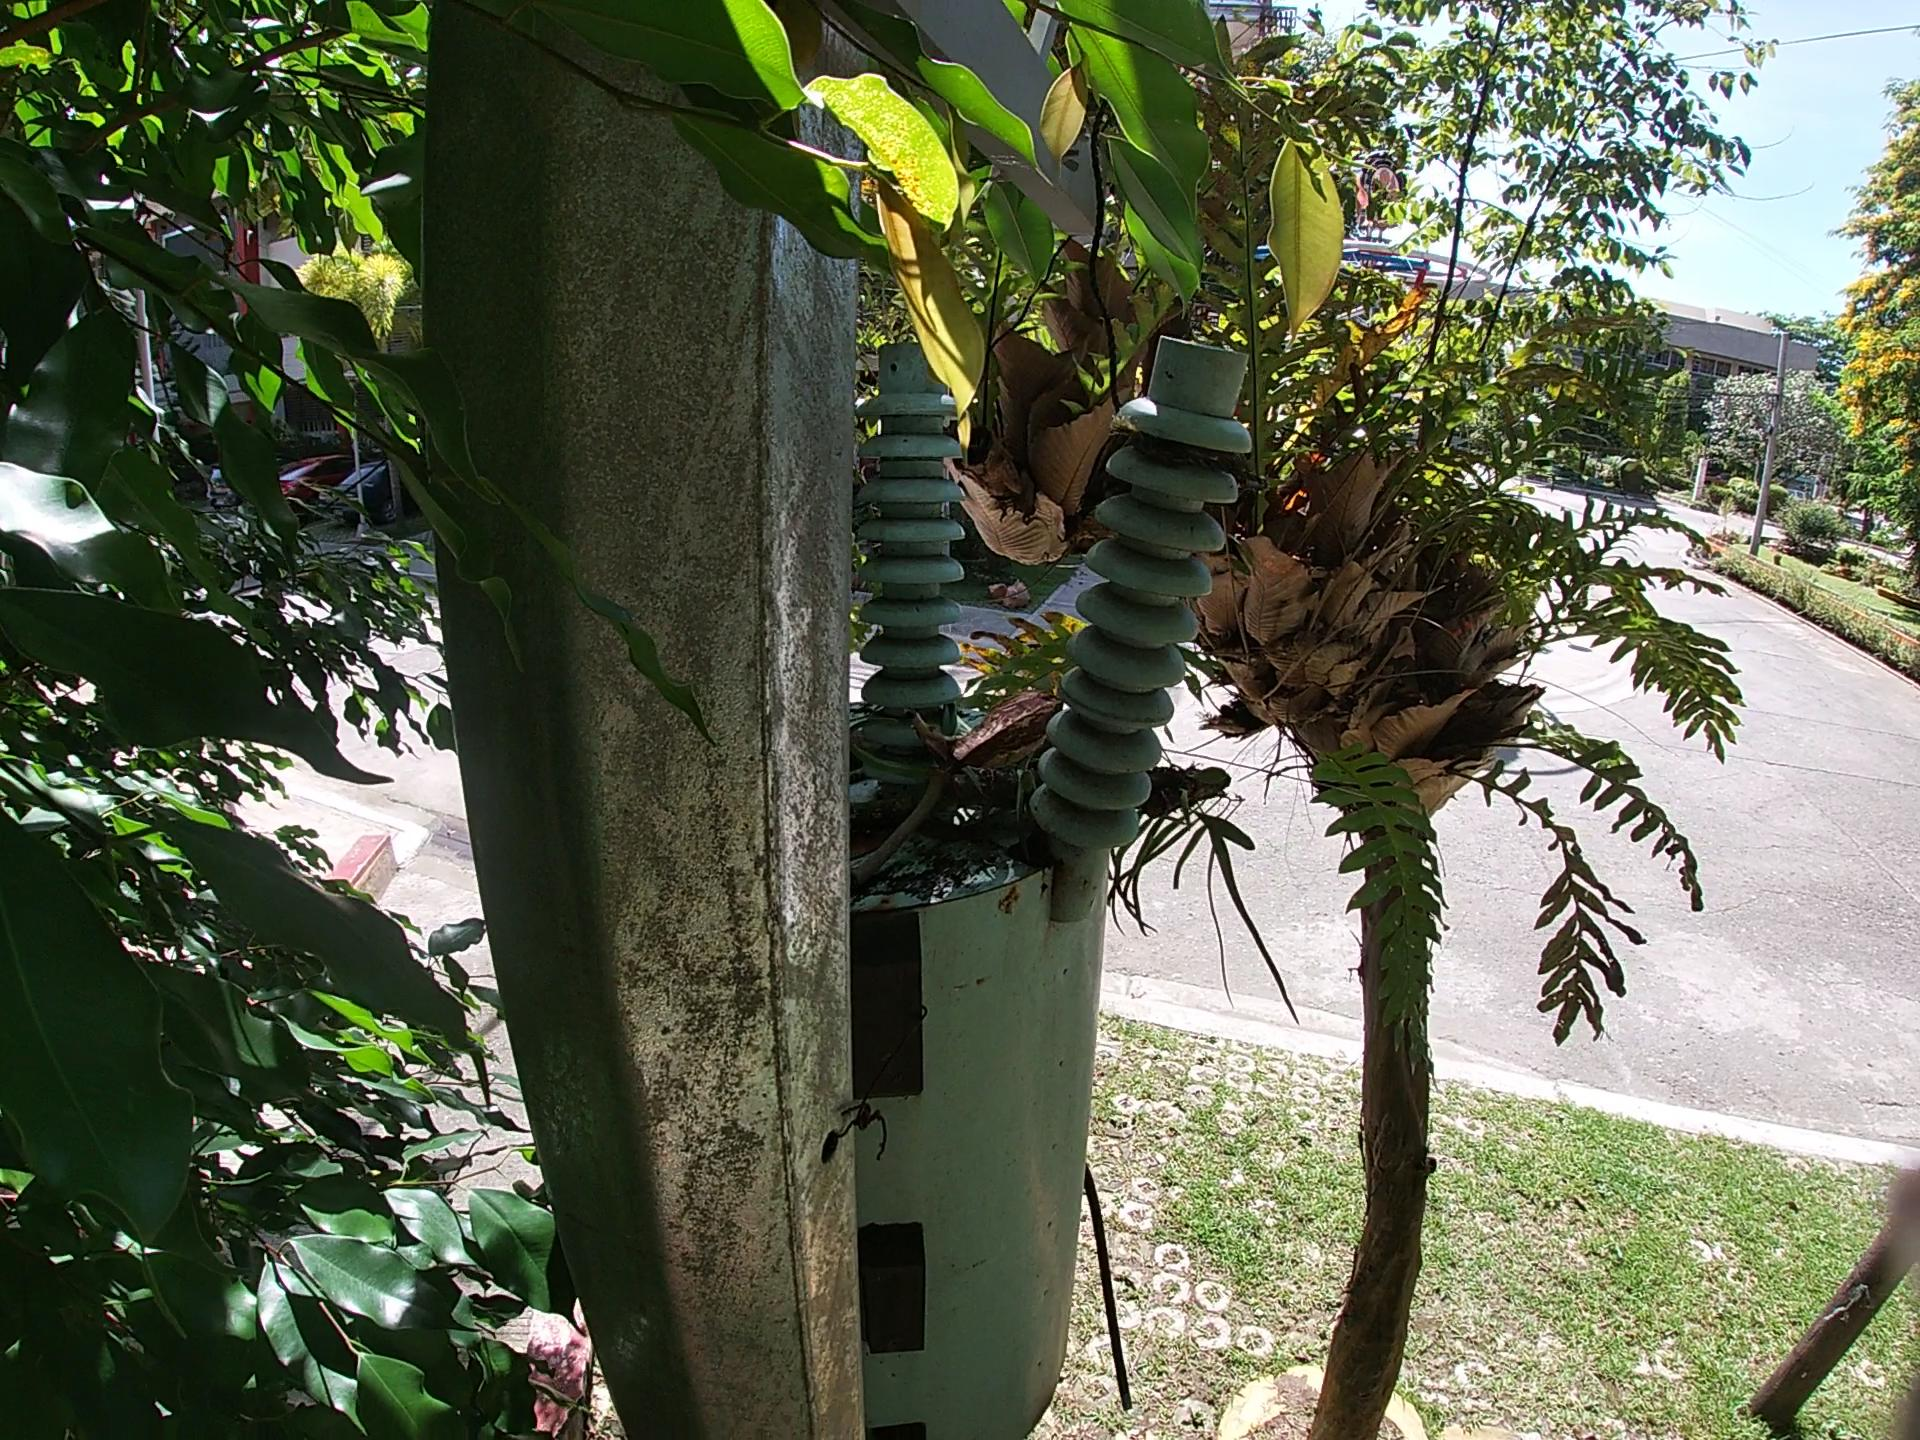branch with leaves: (839, 650, 1246, 861)
tree branch: (854, 756, 930, 892)
